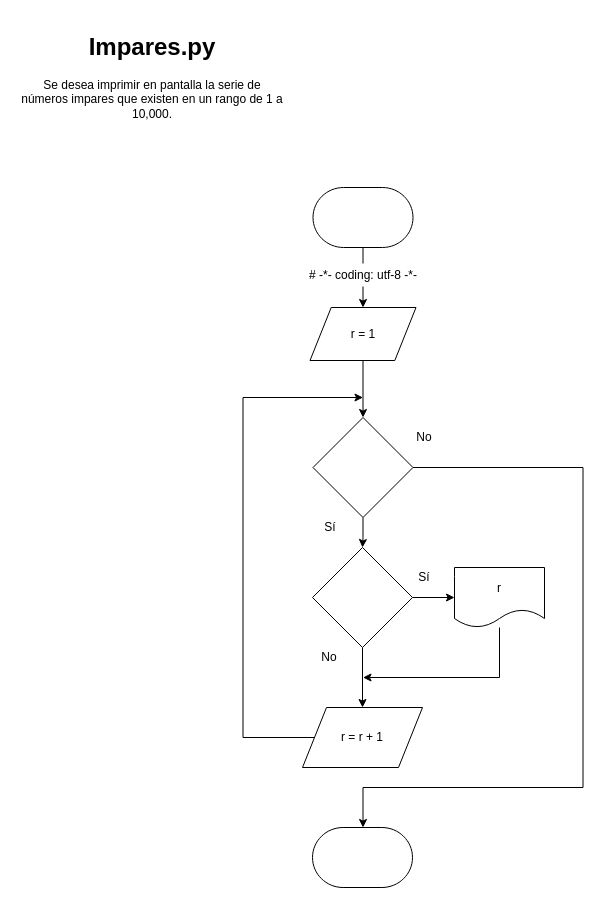
Image size: 608x905. Some labels were removed from this diagram. Each missing label, with the box of its shape:
not r % 2 == 0: (312, 546, 412, 648)
r <= 10000: (312, 416, 413, 518)
